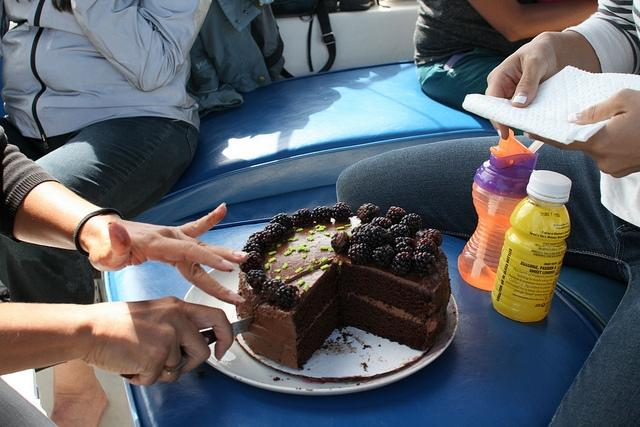blackberry: (361, 224, 396, 250), (275, 284, 301, 310), (372, 244, 396, 269), (262, 278, 286, 302), (413, 252, 436, 276), (348, 243, 373, 265), (246, 230, 276, 248), (400, 213, 422, 237), (390, 252, 412, 276), (330, 230, 350, 256), (240, 252, 262, 274), (412, 238, 438, 256), (331, 202, 353, 222), (292, 208, 314, 228), (356, 204, 380, 222), (393, 237, 416, 255), (386, 206, 406, 226), (270, 213, 294, 229), (246, 270, 266, 289), (311, 206, 332, 224), (422, 229, 443, 247), (388, 224, 412, 238), (371, 216, 392, 230), (242, 240, 262, 254), (349, 231, 364, 244)
